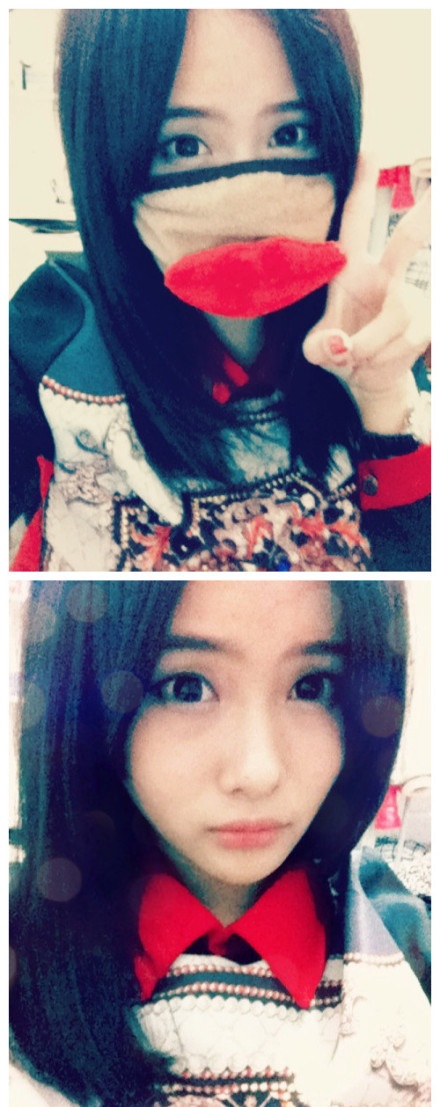face_mask: (129, 1, 348, 311), (130, 575, 341, 881)
